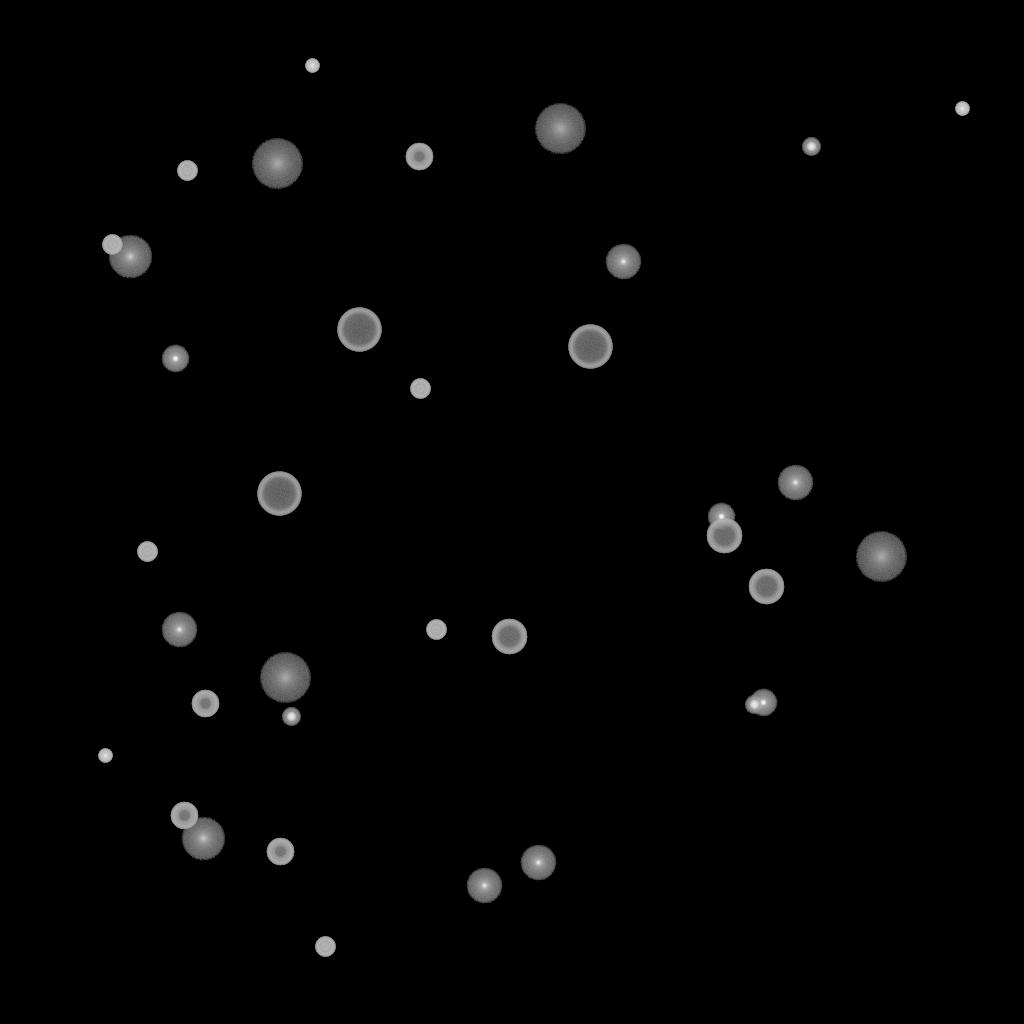depth:-10: (161, 345, 189, 373), (749, 689, 777, 717), (707, 503, 735, 531)
depth:-20: (802, 138, 820, 156), (745, 696, 763, 714), (282, 708, 300, 726)
depth:-30: (305, 59, 319, 73), (955, 102, 969, 116), (98, 749, 112, 763)
depth:-40: (137, 542, 157, 562), (315, 937, 335, 957), (177, 161, 197, 181), (102, 235, 122, 255), (426, 620, 446, 640), (410, 379, 430, 399)
depth:-50: (170, 802, 198, 830), (405, 143, 433, 171), (191, 690, 219, 718), (266, 838, 294, 866)
depth:-60: (491, 619, 527, 655), (706, 518, 742, 554), (748, 569, 784, 605)
depth:-70: (257, 472, 301, 516), (337, 308, 381, 352), (568, 325, 612, 369)
depth:0: (161, 612, 197, 648), (605, 244, 641, 280), (520, 845, 556, 881), (777, 465, 813, 501), (466, 868, 502, 904)
depth:10: (108, 235, 152, 279), (181, 817, 225, 861)
depth:20: (855, 532, 907, 582), (259, 653, 311, 703), (534, 104, 586, 154), (251, 139, 303, 189)
